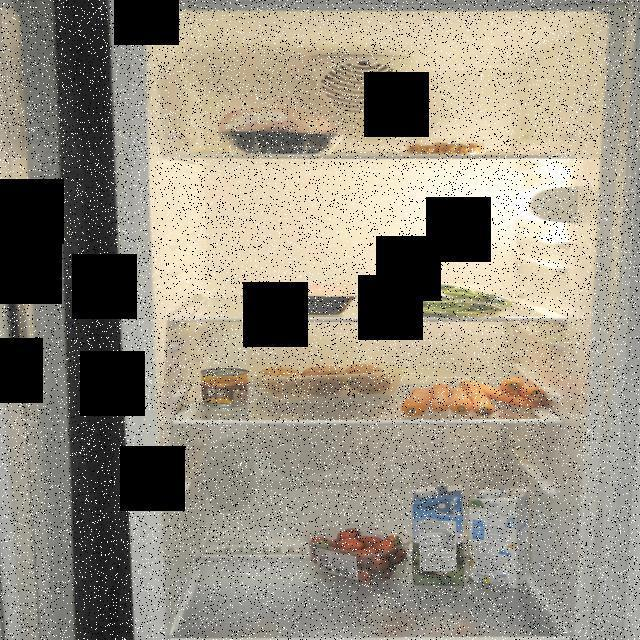Beef: (238, 282, 360, 315)
Berries strawberries/blueberries: (302, 520, 412, 584)
Carrot: (397, 374, 554, 419)
Chicken: (212, 104, 343, 156)
Corn ear: (200, 367, 250, 409)
Potato: (253, 362, 397, 402)
